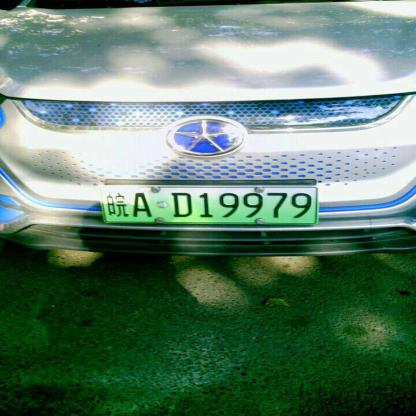lp: (100, 186, 315, 221)
